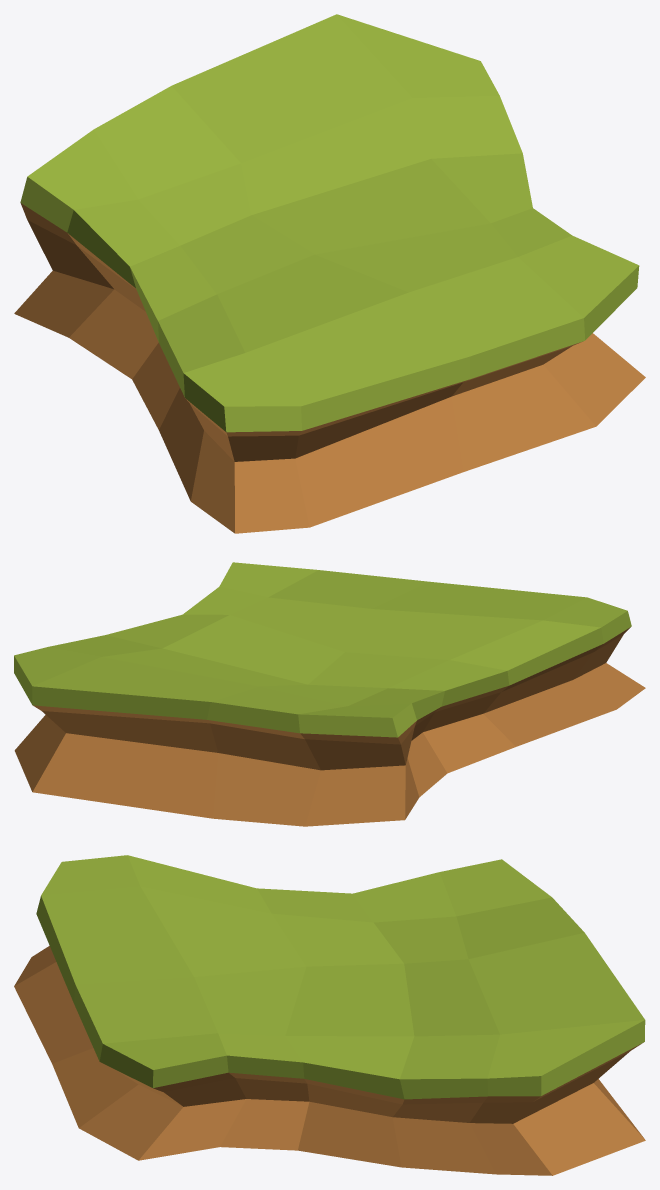
The model's file is drn_textured1.fbx.
The picture shows the model from 3 angles, top to bottom: view 1: azimuth 30°, elevation 25°; view 2: azimuth 150°, elevation 25°; view 3: azimuth 270°, elevation 25°; orthographic projection. The views are drawn at different scales.
Parts seen in each view (by area): view 1: JaynamLowPolyTerrain_drny_rozdelane:pCube3; view 2: JaynamLowPolyTerrain_drny_rozdelane:pCube3; view 3: JaynamLowPolyTerrain_drny_rozdelane:pCube3.
Boxes of the visible parts, x1=… form: JaynamLowPolyTerrain_drny_rozdelane:pCube3: x1=14, y1=14, x2=645, y2=533; JaynamLowPolyTerrain_drny_rozdelane:pCube3: x1=14, y1=562, x2=645, y2=826; JaynamLowPolyTerrain_drny_rozdelane:pCube3: x1=14, y1=855, x2=645, y2=1175.
Bounding box in the file's own units: 1.06 × 0.2997 × 1.23.
